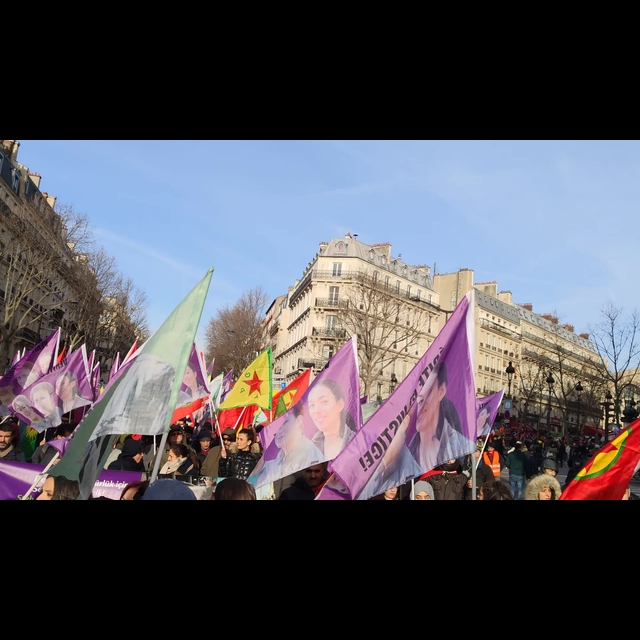YPG: (234, 369, 267, 403)
